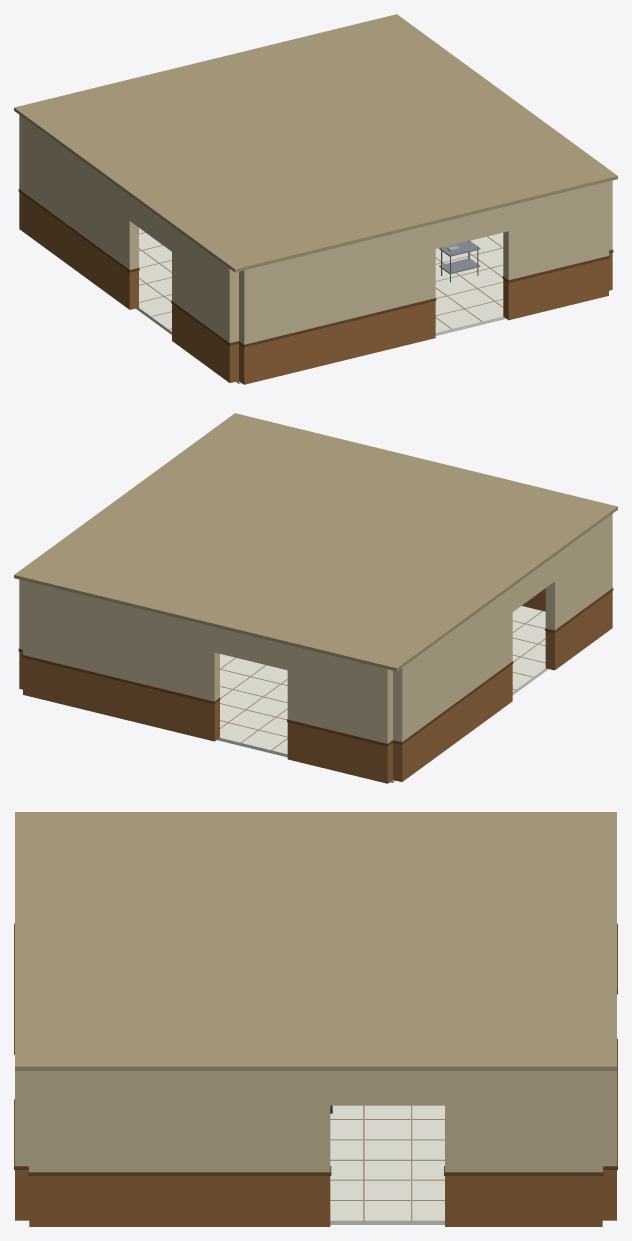
Rendered from room_zoology_vet_surgery.glb.
The picture shows the model from 3 angles, top to bottom: view 1: azimuth 30°, elevation 25°; view 2: azimuth 150°, elevation 25°; view 3: azimuth 270°, elevation 25°; orthographic projection. The views are drawn at different scales.
Parts seen in each view (by area): view 1: room_zoology_vet_surgery; view 2: room_zoology_vet_surgery; view 3: room_zoology_vet_surgery.
Boxes of the visible parts, x1,y1,x2,y2 form: room_zoology_vet_surgery: [14, 14, 617, 384]; room_zoology_vet_surgery: [14, 413, 617, 783]; room_zoology_vet_surgery: [14, 812, 617, 1226].
Size of the model in its own units: 12.62 by 3.8 by 12.64.
Materials: 1 (1 with a texture image).
